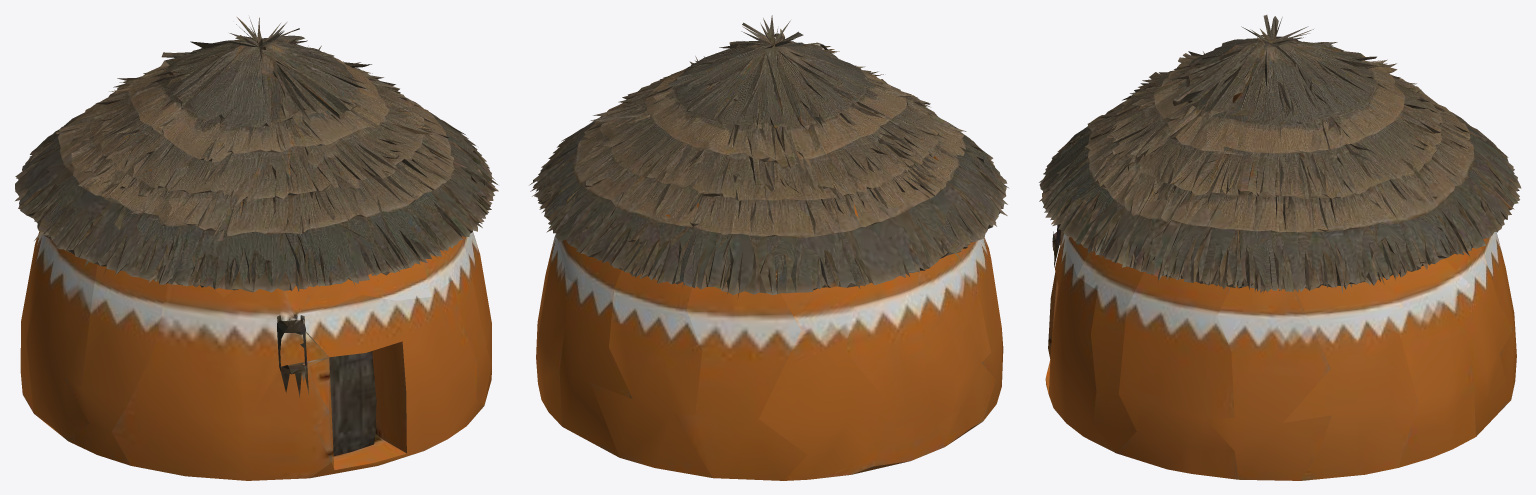
The model's file is Hut_Mud_Painted.glb.
3 renders of one model, left to right at view 1: azimuth 30°, elevation 25°; view 2: azimuth 150°, elevation 25°; view 3: azimuth 270°, elevation 25°, orthographic.
Bounding box in the file's own units: 1.89 × 1.54 × 1.87.
1 material, 1 textured.
